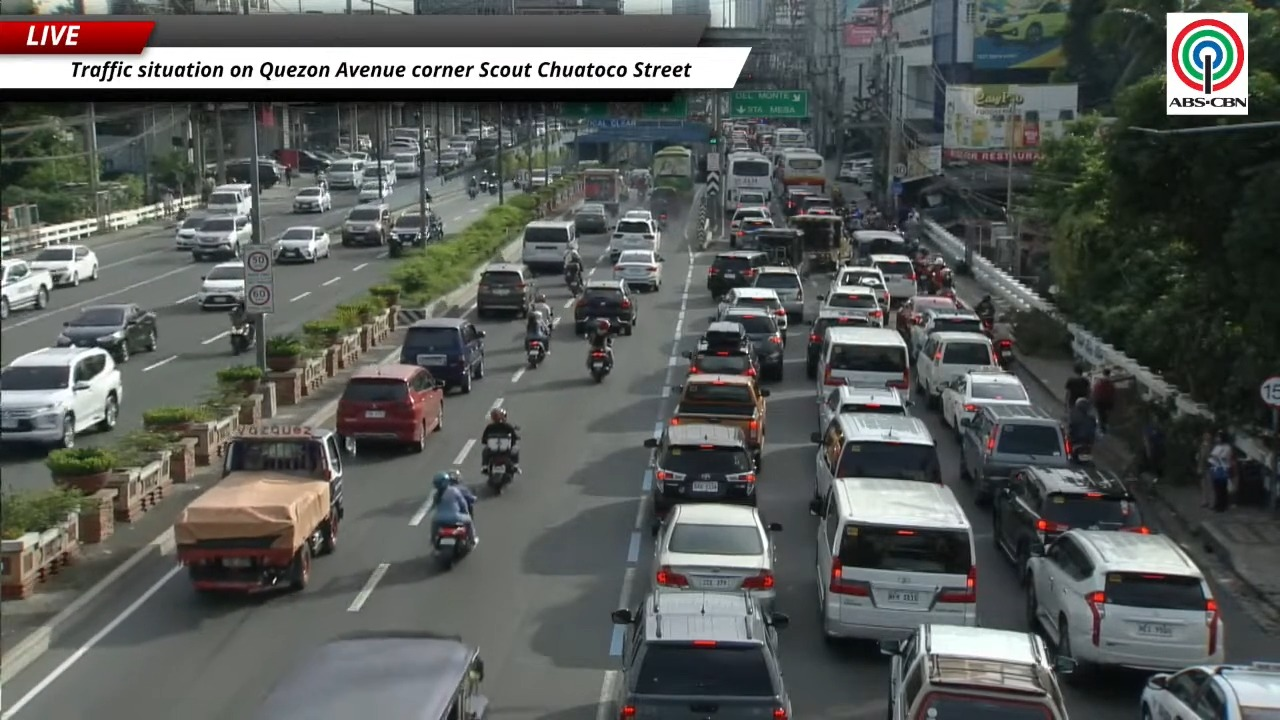bus: (723, 152, 773, 215), (651, 146, 694, 198), (779, 150, 826, 191), (774, 128, 808, 149)
car: (1025, 529, 1224, 680), (809, 474, 977, 641), (602, 588, 791, 719), (244, 632, 491, 719), (880, 623, 1073, 719), (992, 466, 1149, 574), (654, 503, 781, 609), (0, 348, 122, 447), (810, 413, 941, 498), (644, 422, 756, 521), (960, 405, 1070, 502), (335, 365, 444, 451), (1140, 661, 1279, 719), (915, 332, 1001, 408), (400, 318, 485, 392), (56, 303, 157, 363), (940, 370, 1031, 431), (718, 307, 784, 381), (806, 309, 871, 379), (817, 386, 910, 429), (717, 287, 787, 343), (983, 0, 1067, 44), (574, 280, 636, 335), (908, 308, 982, 354), (476, 263, 535, 318), (896, 295, 958, 344), (706, 250, 768, 298), (753, 265, 804, 323), (29, 245, 99, 286), (818, 285, 887, 326), (191, 215, 251, 260), (684, 342, 758, 375), (831, 265, 889, 307), (869, 254, 916, 305), (608, 217, 660, 262), (196, 262, 244, 309), (341, 203, 391, 246), (852, 229, 913, 264), (273, 226, 330, 262), (613, 250, 663, 291), (697, 321, 749, 350), (729, 218, 775, 248), (390, 210, 423, 245), (175, 216, 207, 251), (729, 206, 770, 232), (574, 203, 608, 233), (292, 186, 331, 212), (783, 186, 816, 216), (357, 178, 393, 202), (837, 160, 870, 183), (800, 194, 831, 214), (736, 190, 768, 208), (623, 209, 654, 221)
motorcycle: (433, 523, 473, 569), (483, 437, 514, 494), (587, 349, 611, 382), (228, 323, 252, 355), (526, 339, 546, 369), (996, 338, 1014, 370), (1070, 443, 1093, 464), (565, 271, 582, 297), (388, 235, 402, 257), (428, 222, 444, 241), (658, 213, 667, 230), (478, 180, 489, 193), (467, 186, 477, 199), (489, 182, 498, 195)
truck: (173, 424, 351, 593), (669, 373, 769, 469), (0, 258, 53, 318), (583, 168, 625, 216)
